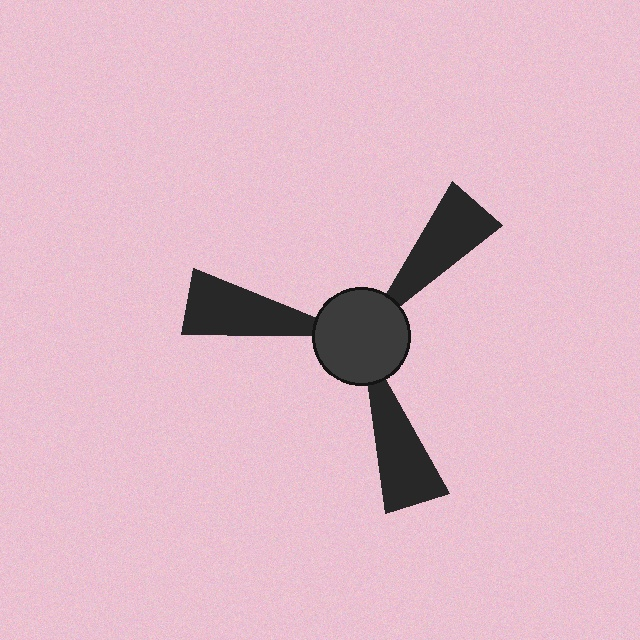fan: (154, 129, 568, 543)
